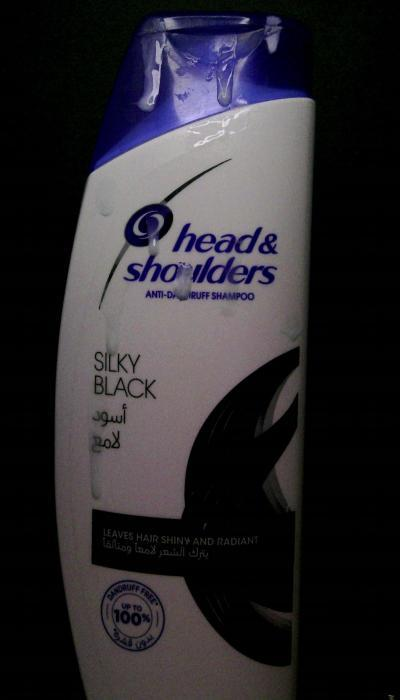pob_unacc: (130, 13, 170, 119), (182, 102, 253, 150), (167, 47, 217, 112), (210, 28, 248, 112), (84, 429, 108, 504), (100, 302, 127, 358), (258, 10, 285, 59), (172, 258, 198, 306), (139, 214, 165, 258), (92, 188, 119, 226), (279, 305, 301, 349)
